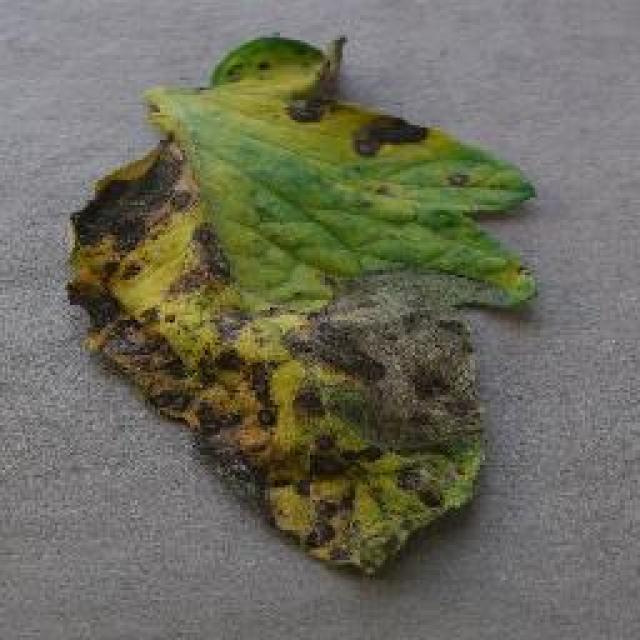Tomato___Early_blight: (66, 31, 544, 580)
